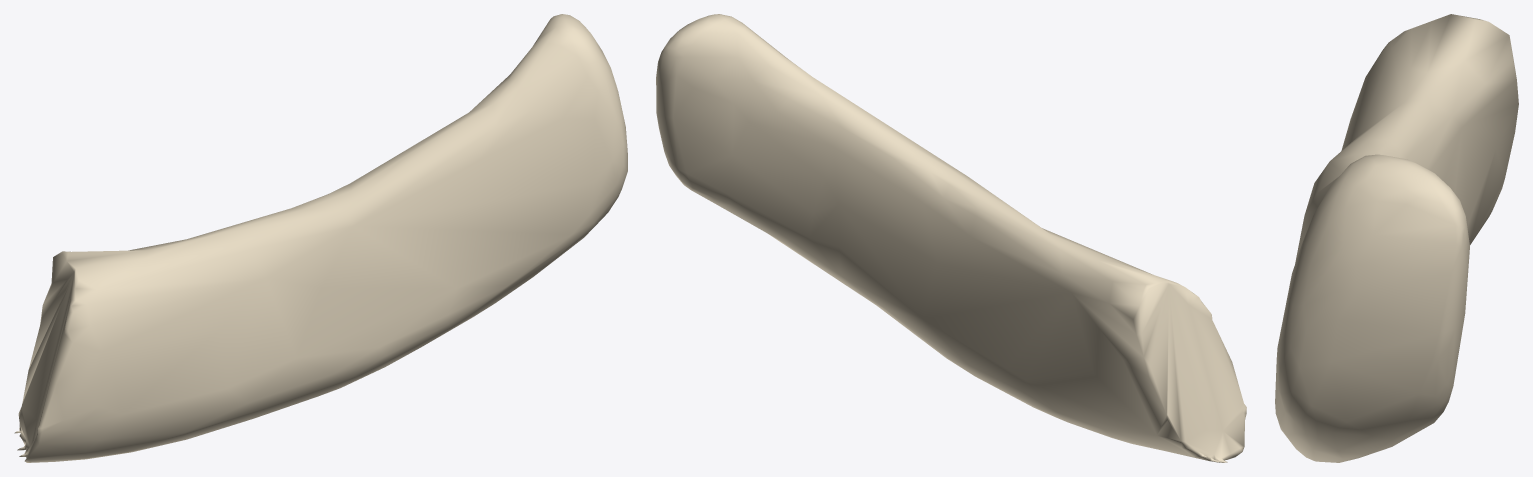
The model's file is costal-cartilage-of-fourth-rib-r.glb.
3 renders of one model, left to right at view 1: azimuth 30°, elevation 25°; view 2: azimuth 150°, elevation 25°; view 3: azimuth 270°, elevation 25°, orthographic. The views are drawn at different scales.
Parts seen in each view (by area): view 1: Costal cartilage of fourth rib.r; view 2: Costal cartilage of fourth rib.r; view 3: Costal cartilage of fourth rib.r.
Part boxes in pixels (x1,y1,x2,y2): Costal cartilage of fourth rib.r: [14, 14, 627, 462]; Costal cartilage of fourth rib.r: [656, 14, 1246, 462]; Costal cartilage of fourth rib.r: [1275, 14, 1518, 462].
Size of the model in its own units: 0.0546 by 0.0291 by 0.013.
